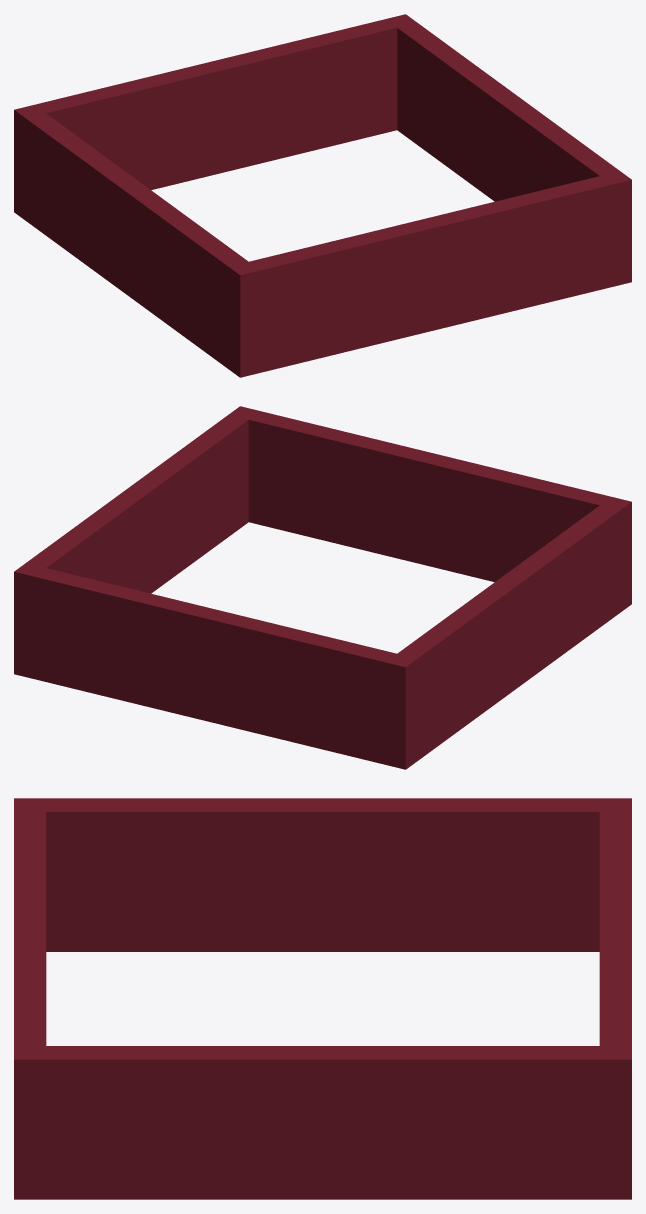
Rendered from tower_middle_002_msh.fbx.
3 renders of one model, top to bottom at view 1: azimuth 30°, elevation 25°; view 2: azimuth 150°, elevation 25°; view 3: azimuth 270°, elevation 25°, orthographic. The views are drawn at different scales.
Parts seen in each view (by area): view 1: tower_middle_002_msh; view 2: tower_middle_002_msh; view 3: tower_middle_002_msh.
Part boxes in pixels (x1,y1,x2,y2): tower_middle_002_msh: (14,14,631,377); tower_middle_002_msh: (14,406,631,769); tower_middle_002_msh: (14,798,631,1199).
Size of the model in its own units: 400 by 100 by 400.
